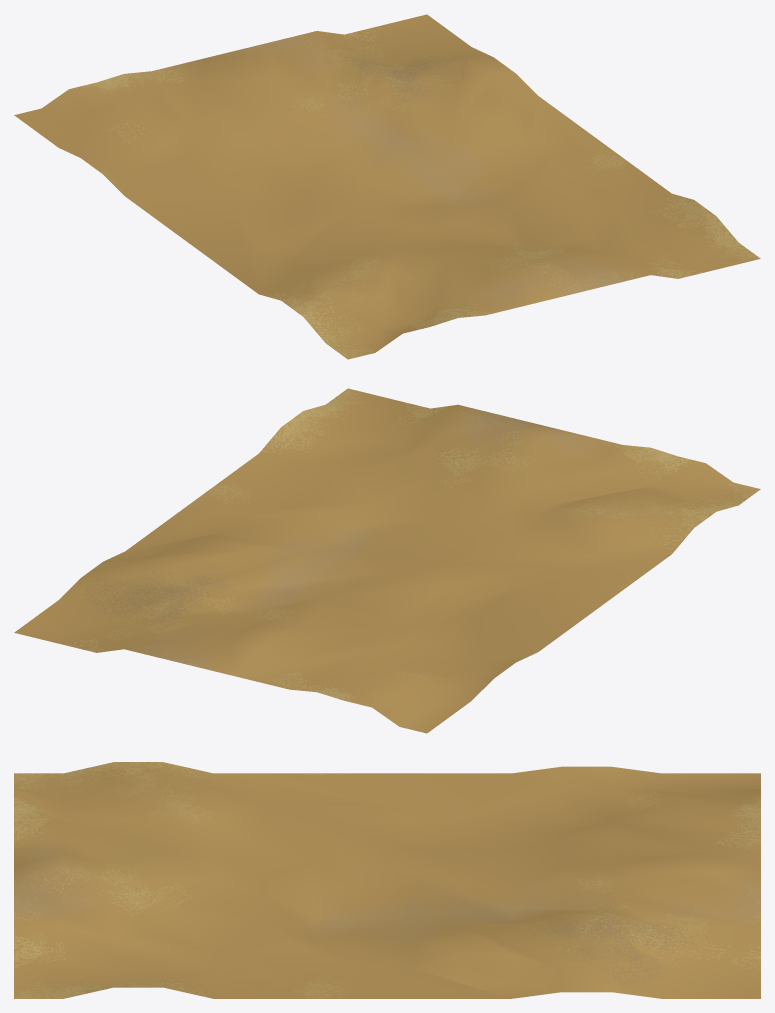
File: sand.glb
3 renders of one model, top to bottom at view 1: azimuth 30°, elevation 25°; view 2: azimuth 150°, elevation 25°; view 3: azimuth 270°, elevation 25°, orthographic. The views are drawn at different scales.
Visible parts, largest first — view 1: pPlane1_lambert1_0; view 2: pPlane1_lambert1_0; view 3: pPlane1_lambert1_0.
Part boxes in pixels (left/top/right/bottom): pPlane1_lambert1_0: left=14, top=14, right=760, bottom=359; pPlane1_lambert1_0: left=14, top=388, right=760, bottom=733; pPlane1_lambert1_0: left=14, top=762, right=760, bottom=998.
Bounding box in the file's own units: 91383 × 6138 × 127931.
Materials: 1 (1 with a texture image).
